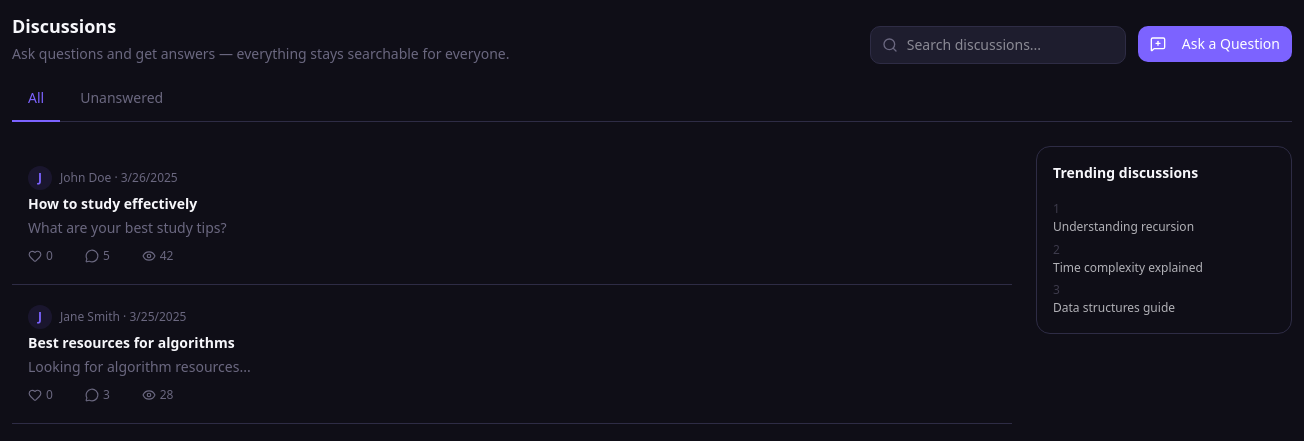
Scenario: ForumList component › Search filtering › shows no results message when API returns empty results for search
Expected: the heading "How to study effectively" is shown, top-left (28, 194), bottom-right (197, 213)
In the field with placeholder "Search discussions...": (998, 45) top-left (870, 26), bottom-right (1126, 64), type "nonexistent-term"
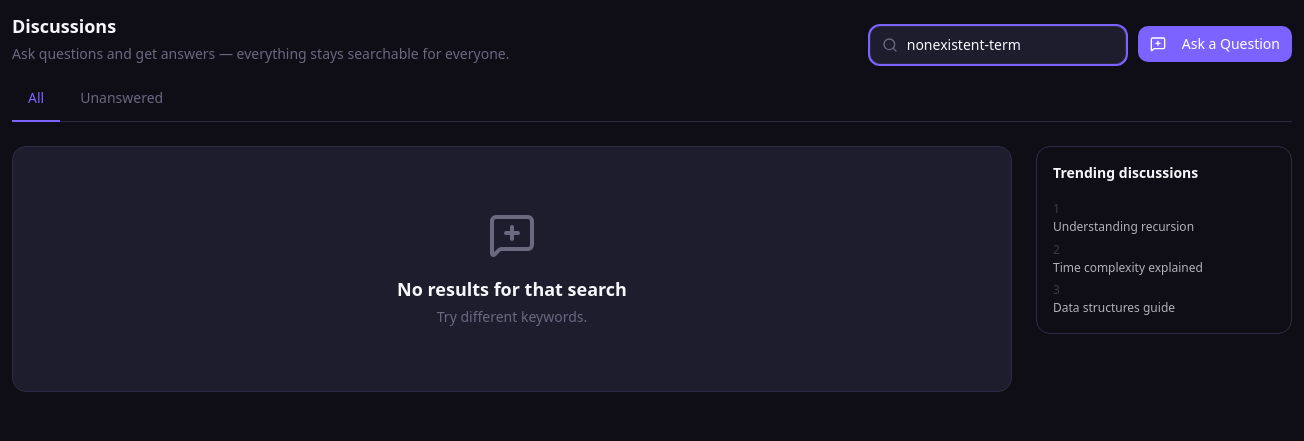
Expected: the text "No results for that search" is shown, top-left (397, 275), bottom-right (627, 303)
Expected: the text "Try different keywords." is shown, top-left (437, 307), bottom-right (587, 327)
